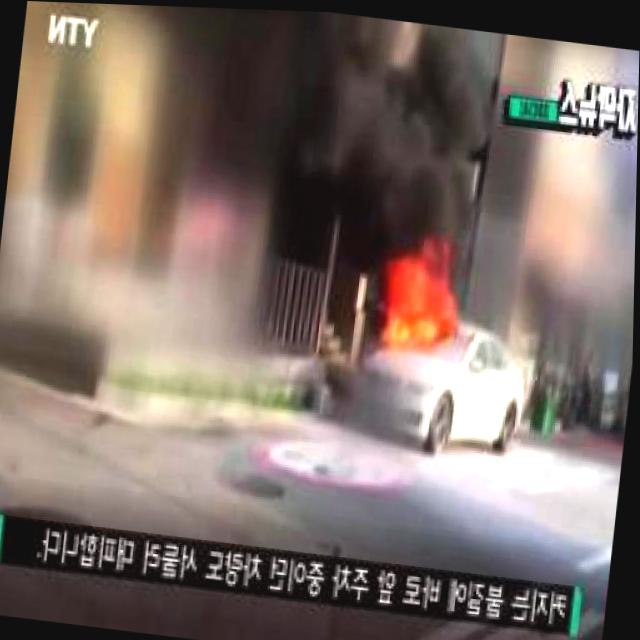Fire: (381, 242, 459, 352)
Smoke: (302, 9, 507, 253)
